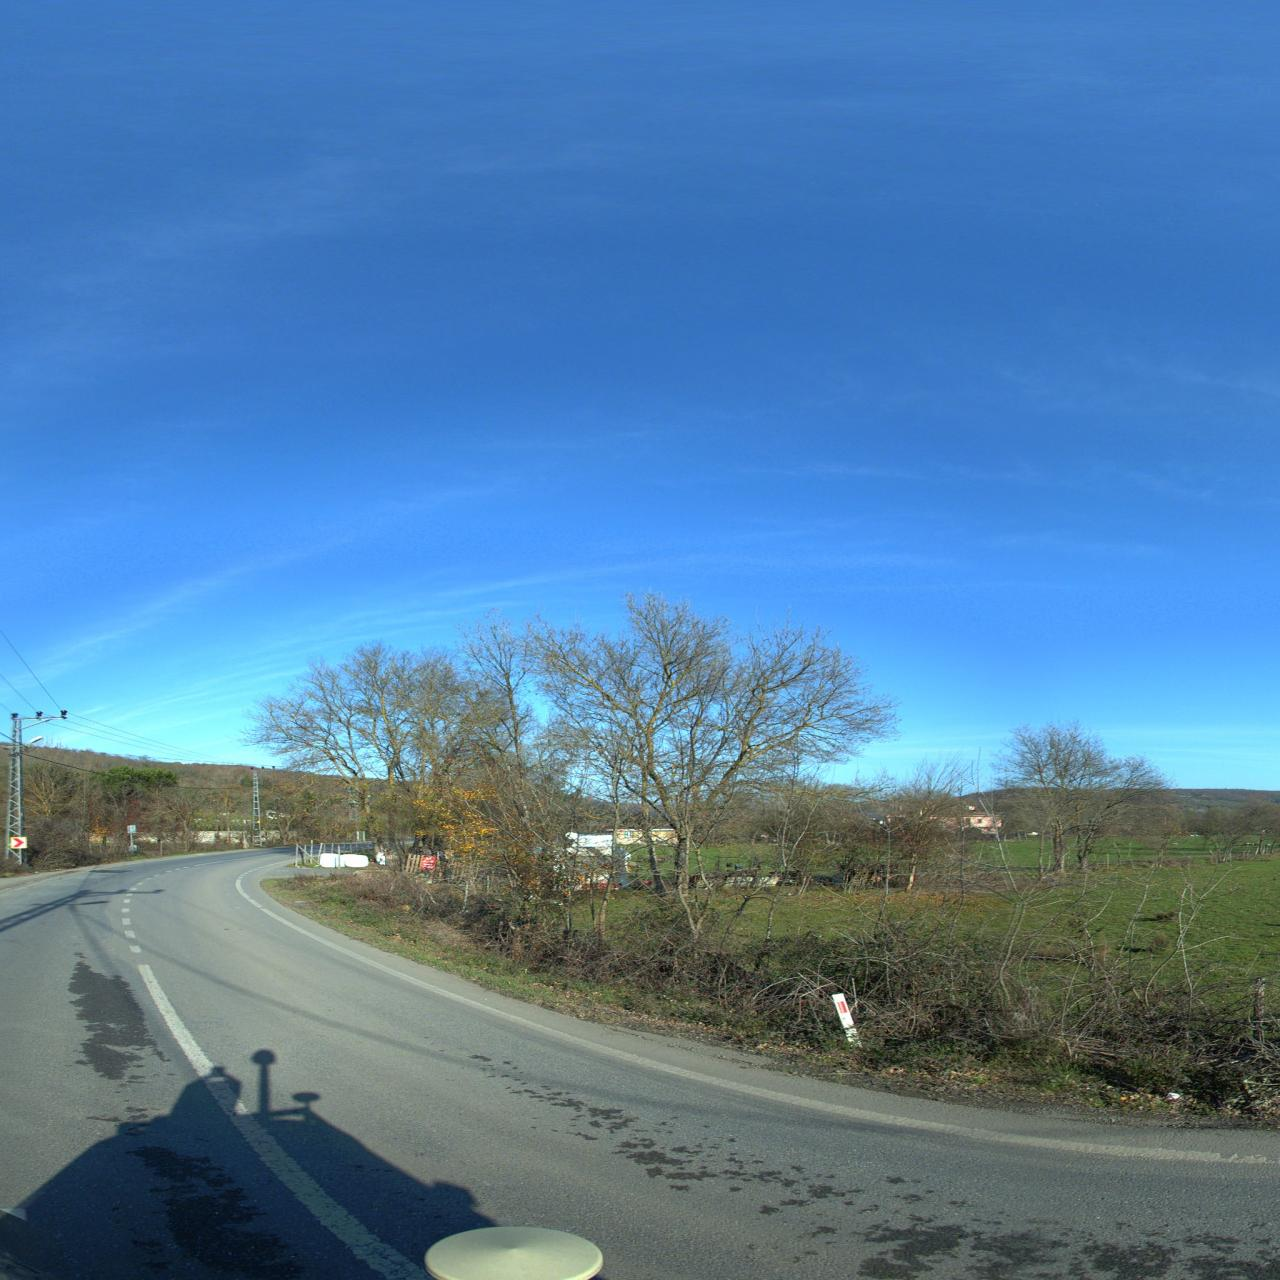Utility Pole Information Plate: (258, 821, 260, 823)
